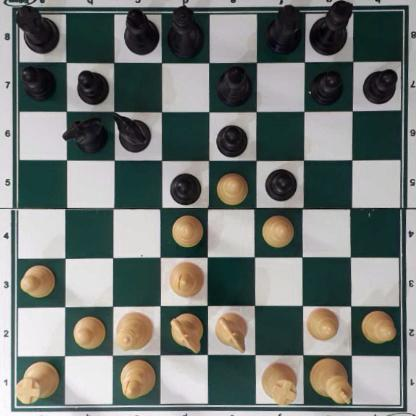black-bishop: (122, 5, 158, 53), (218, 65, 251, 106)
black-king: (309, 1, 351, 56)
black-knight: (66, 114, 106, 152), (112, 112, 151, 150)
black-pawn: (362, 67, 398, 105), (20, 65, 56, 100), (214, 122, 248, 156), (168, 170, 201, 205), (311, 67, 343, 102), (265, 166, 297, 201), (76, 67, 106, 104)
black-queen: (165, 4, 205, 55)
black-rook: (13, 3, 60, 55), (264, 3, 302, 54)
white-bishop: (118, 358, 154, 400), (168, 260, 203, 296)
white-king: (310, 357, 353, 407)
white-knight: (168, 314, 203, 352), (213, 312, 247, 351)
white-pawn: (70, 314, 104, 349), (359, 309, 395, 342), (305, 306, 338, 342), (20, 264, 55, 297), (260, 213, 293, 247), (214, 170, 248, 202), (170, 212, 202, 246)
white-queen: (115, 309, 151, 351)
white-rook: (13, 359, 58, 402), (261, 362, 297, 405)
